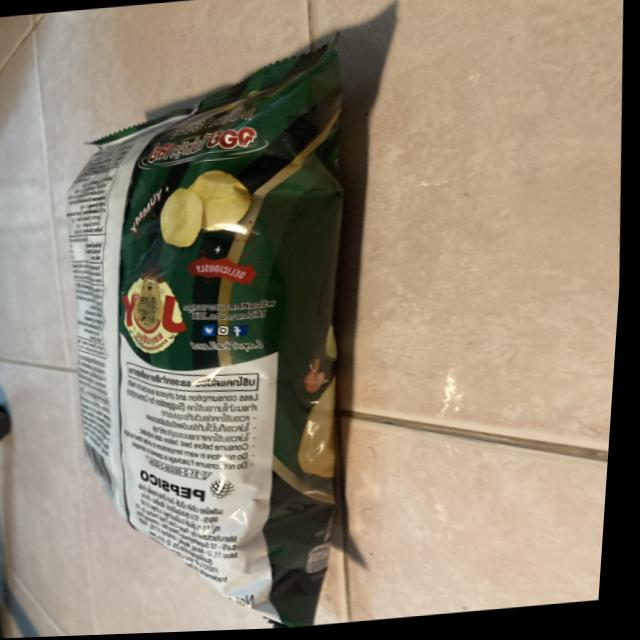Laygreen: (25, 54, 425, 638)
